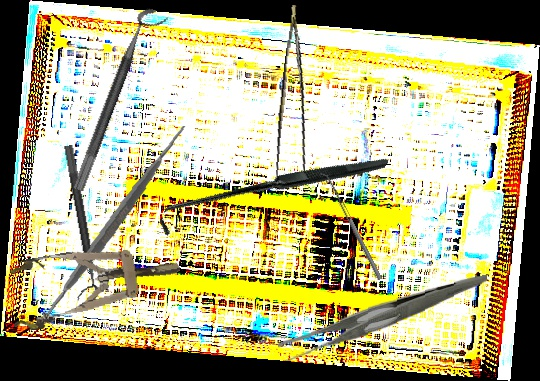Dressing Forceps: (275, 275, 490, 362)
Fixation Ring: (72, 5, 169, 198), (50, 144, 101, 302)
Hook Surgical: (155, 78, 389, 311)
Spatula Surgical: (11, 124, 213, 326), (318, 169, 383, 283)
Speculum: (3, 233, 186, 334)
Tissue Forceps: (270, 4, 325, 183)
